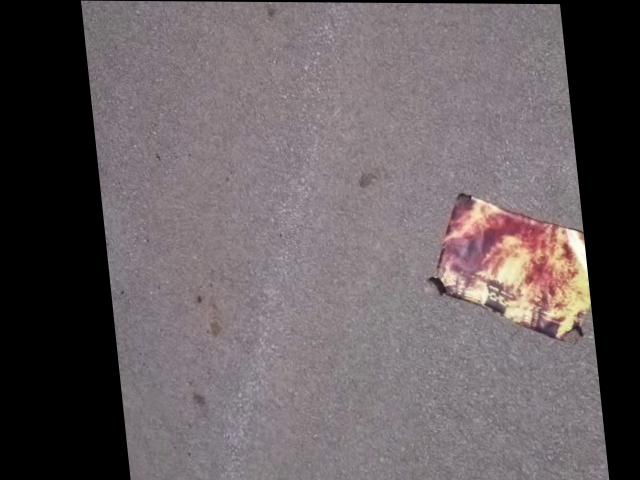fire-poster: (409, 189, 587, 342)
